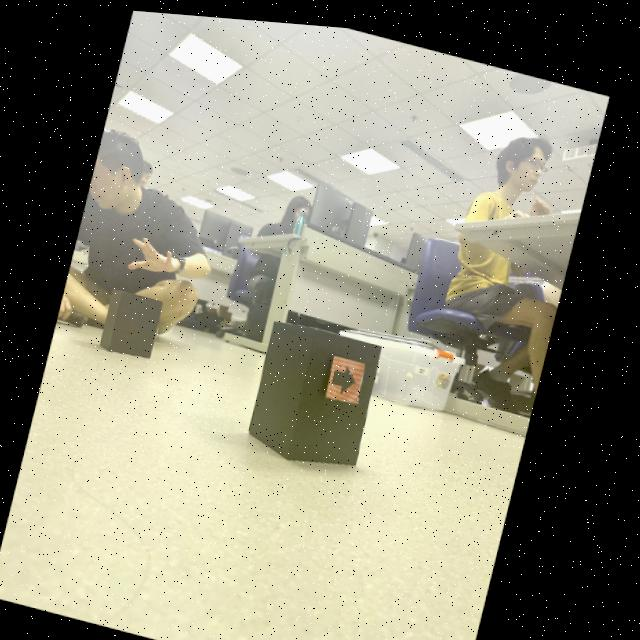RIGHT: (337, 359, 360, 387)
